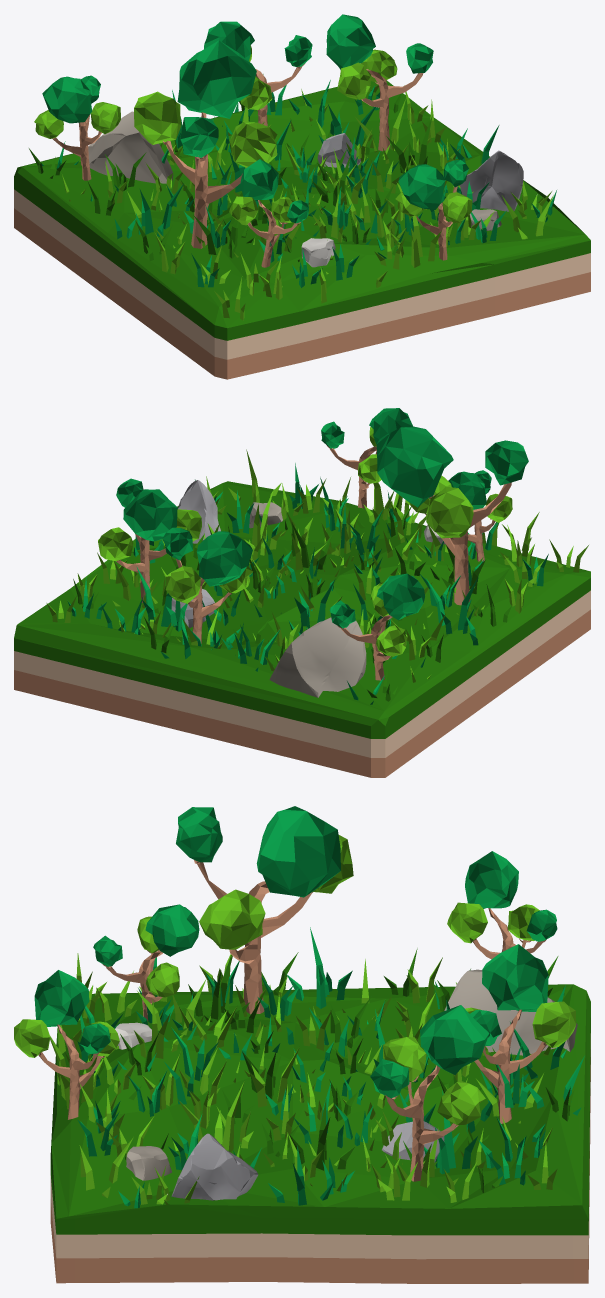
File: 5_Woodland.fbx
3 renders of one model, top to bottom at view 1: azimuth 30°, elevation 25°; view 2: azimuth 150°, elevation 25°; view 3: azimuth 270°, elevation 25°, orthographic. The views are drawn at different scales.
Visible parts, largest first — view 1: 5Grove_Map; view 2: 5Grove_Map; view 3: 5Grove_Map.
Part boxes in pixels (box(x1,y1,x2,y2)): 5Grove_Map: box(14, 14, 590, 379); 5Grove_Map: box(14, 408, 590, 777); 5Grove_Map: box(14, 806, 590, 1283).
Bounding box in the file's own units: 0.9099 × 0.5709 × 0.9732.
